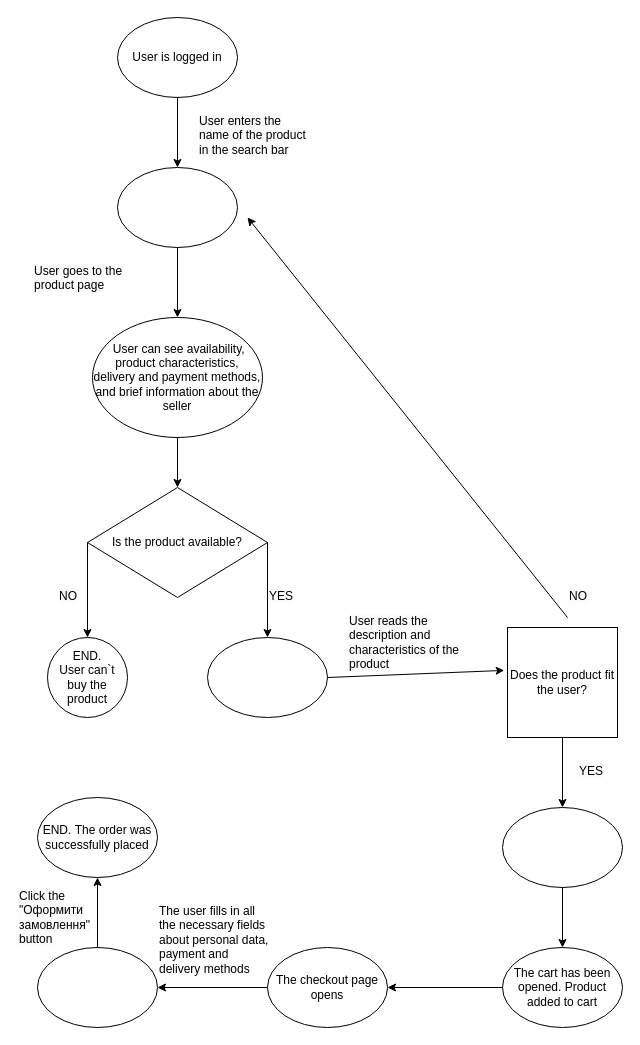
Some shapes in this 640 by 1045 pixel diagram are drawn without their labels. The centre of each missing label's shape, as x and y in pixels:
Product added to the cart: point 562,847
The "Оформити замовлення" button is available to click: point 97,987
User can add product to the cart: point 267,677
User is able to see product he was searching for: point 177,207
